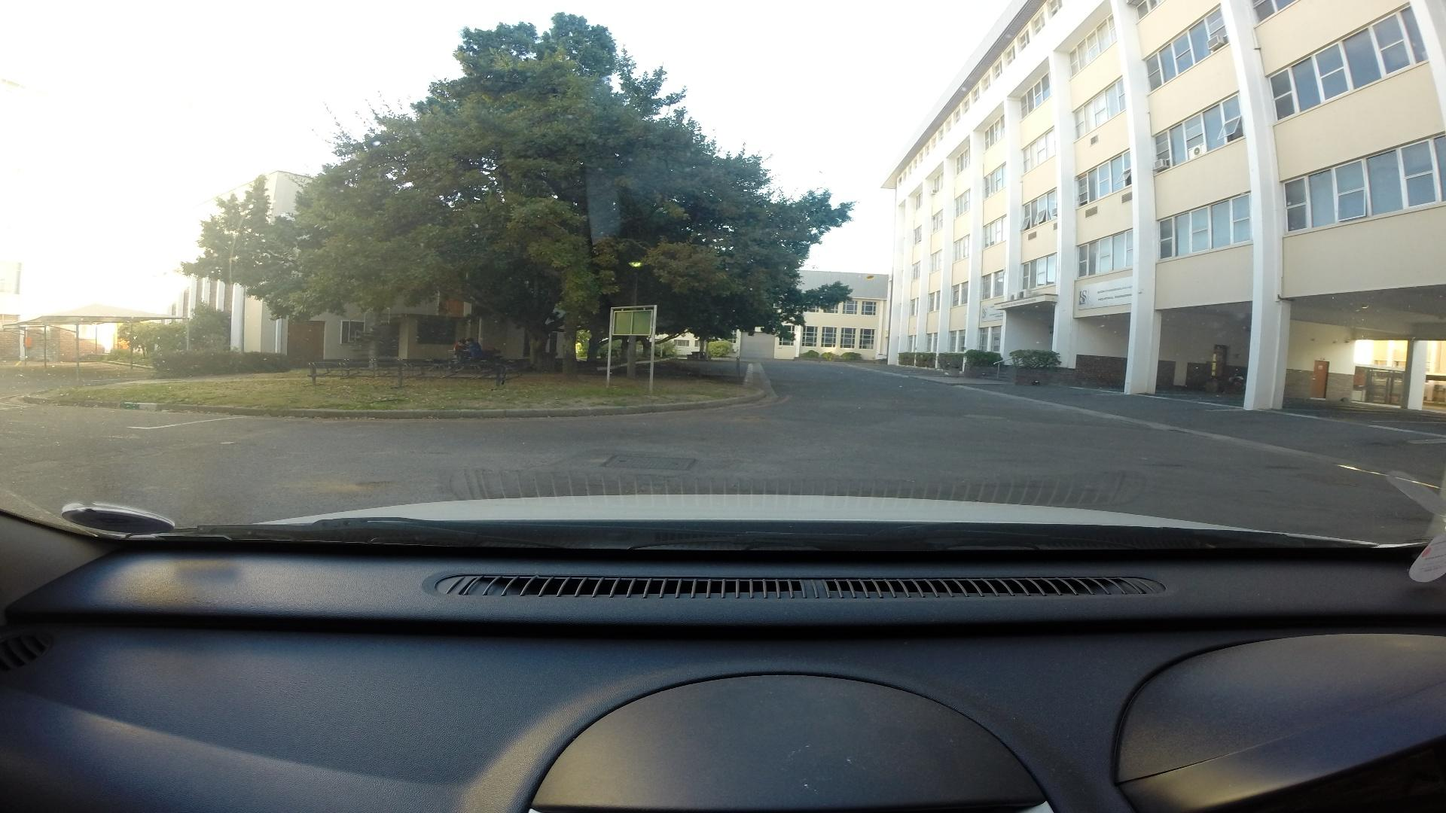pothole: (310, 474, 390, 495)
